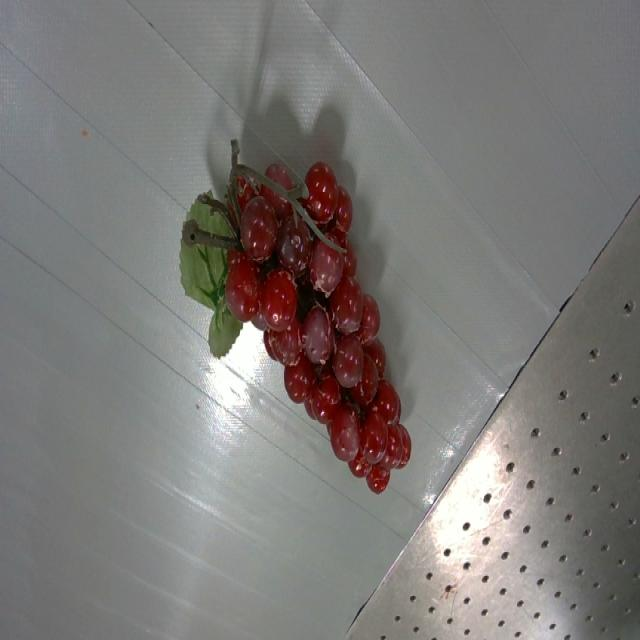grape: (182, 141, 411, 492)
